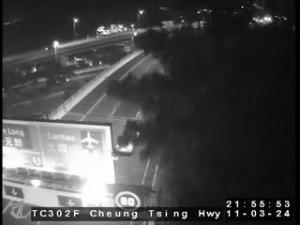vehicle: (124, 120, 144, 142), (116, 136, 136, 154)
